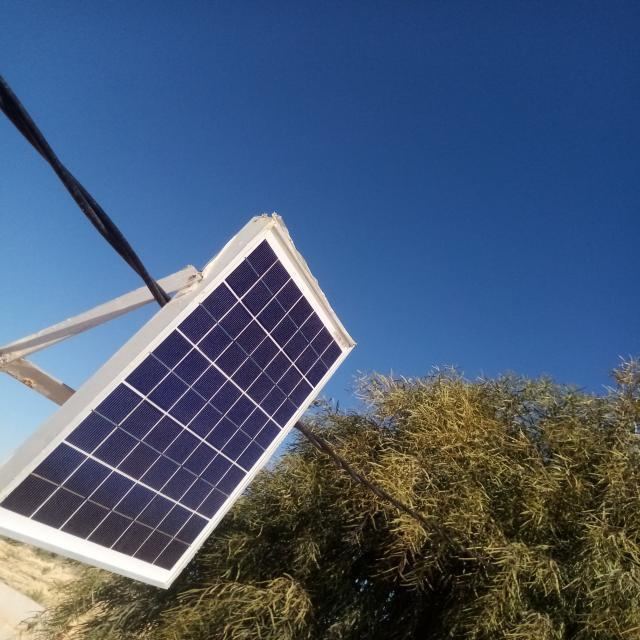Normal Solar Panel: (0, 222, 357, 588)
